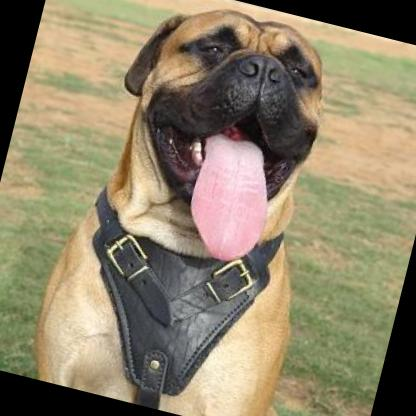bull_mastiff: (18, 0, 379, 416)
